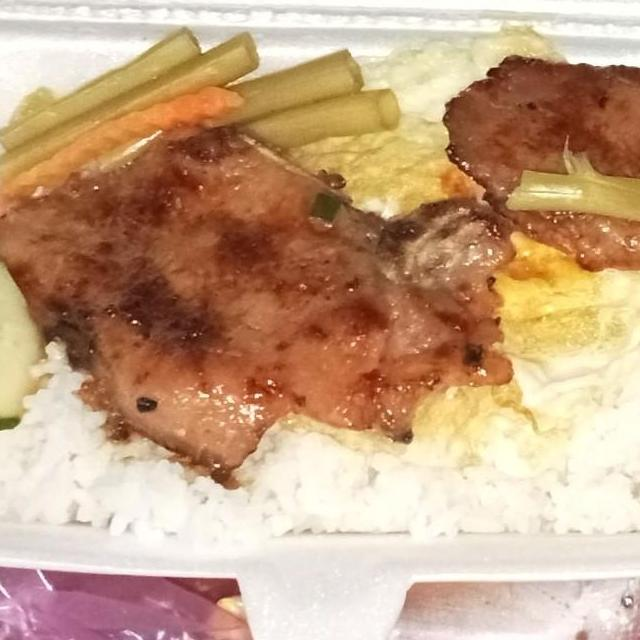com: (0, 326, 221, 544), (232, 402, 575, 542), (554, 279, 640, 541)
dua chua: (0, 21, 408, 217)
suon: (0, 121, 518, 491), (435, 49, 640, 325)
trung: (282, 19, 640, 436)
